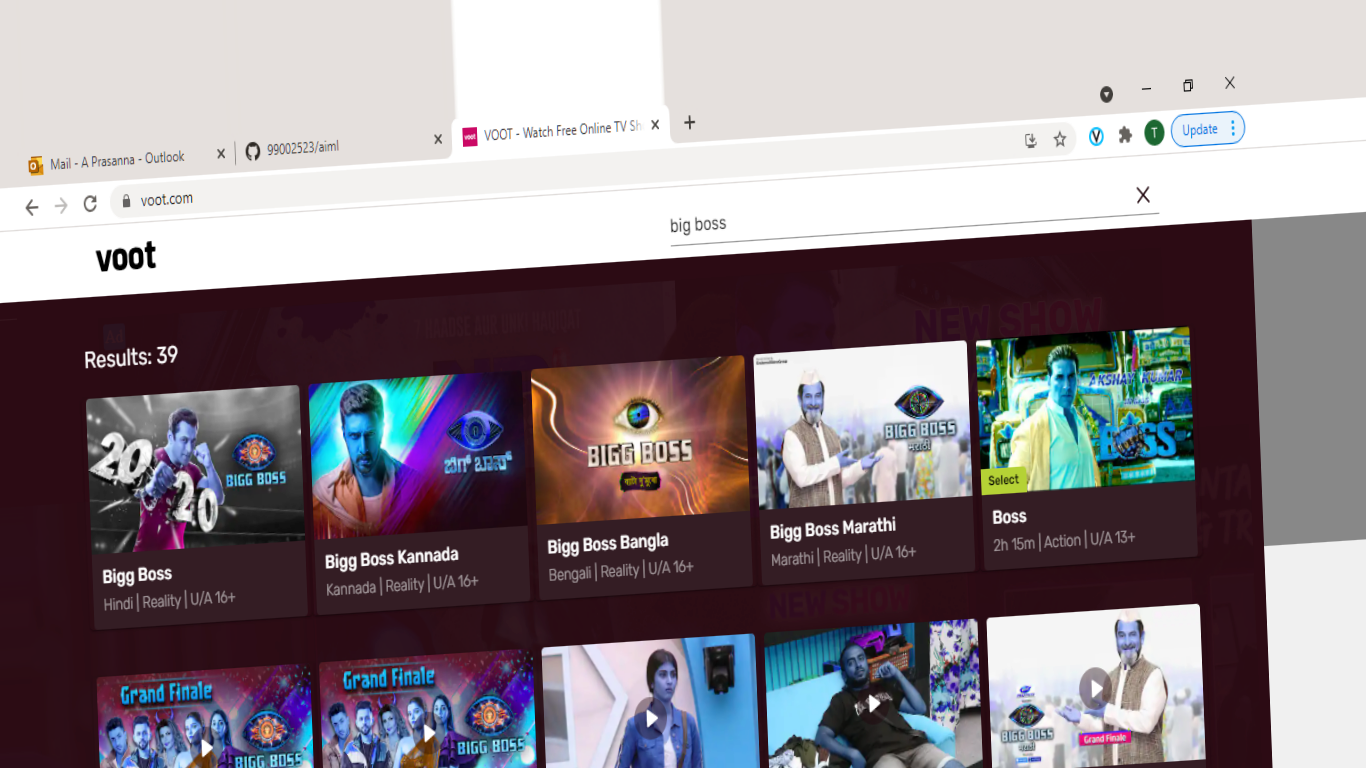resultsfound: (75, 340, 208, 381)
searchtextbox: (651, 185, 1159, 252)
